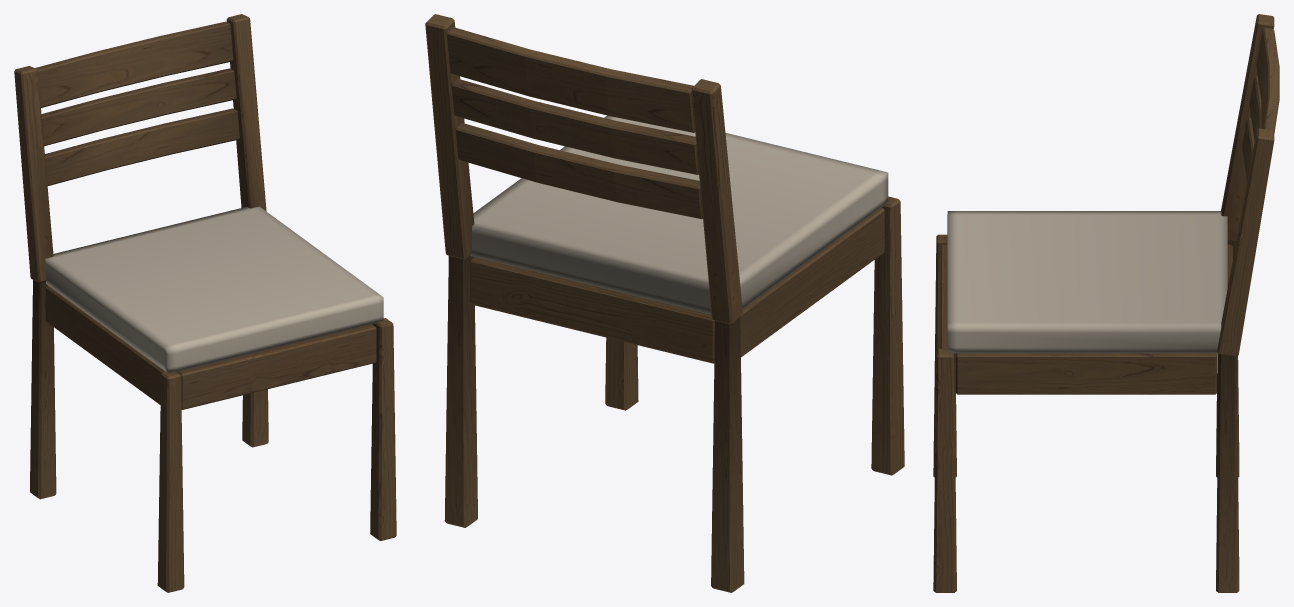
File: courtyard_dining_chair.gltf
3 views of the same model, side by side, from view 1: azimuth 30°, elevation 25°; view 2: azimuth 150°, elevation 25°; view 3: azimuth 270°, elevation 25° (orthographic). The views are drawn at different scales.
Parts seen in each view (by area): view 1: CourtyardDiningChair_Cushion, CourtyardDiningChair_Back, CourtyardDiningChair_SideL, CourtyardDiningChair_SideR, CourtyardDiningChair_Seat; view 2: CourtyardDiningChair_Cushion, CourtyardDiningChair_Back, CourtyardDiningChair_SideL, CourtyardDiningChair_SideR, CourtyardDiningChair_Seat; view 3: CourtyardDiningChair_Cushion, CourtyardDiningChair_SideR, CourtyardDiningChair_SideL, CourtyardDiningChair_Back, CourtyardDiningChair_Seat.
Part boxes in pixels (left/top/right/bottom): CourtyardDiningChair_Cushion: left=45, top=206, right=383, bottom=372; CourtyardDiningChair_Back: left=35, top=21, right=239, bottom=185; CourtyardDiningChair_SideL: left=14, top=66, right=184, bottom=592; CourtyardDiningChair_SideR: left=226, top=14, right=396, bottom=540; CourtyardDiningChair_Seat: left=177, top=324, right=376, bottom=409; CourtyardDiningChair_Cushion: left=470, top=115, right=888, bottom=314; CourtyardDiningChair_Back: left=446, top=27, right=702, bottom=219; CourtyardDiningChair_SideL: left=691, top=79, right=904, bottom=592; CourtyardDiningChair_SideR: left=425, top=14, right=638, bottom=527; CourtyardDiningChair_Seat: left=470, top=257, right=714, bottom=363; CourtyardDiningChair_Cushion: left=947, top=211, right=1227, bottom=353; CourtyardDiningChair_SideR: left=933, top=128, right=1274, bottom=592; CourtyardDiningChair_SideL: left=933, top=14, right=1274, bottom=477; CourtyardDiningChair_Back: left=1242, top=27, right=1279, bottom=181; CourtyardDiningChair_Seat: left=940, top=244, right=1232, bottom=386.
Size of the model in its own units: 0.4999 by 0.8568 by 0.5879.
2 materials, 1 textured.
